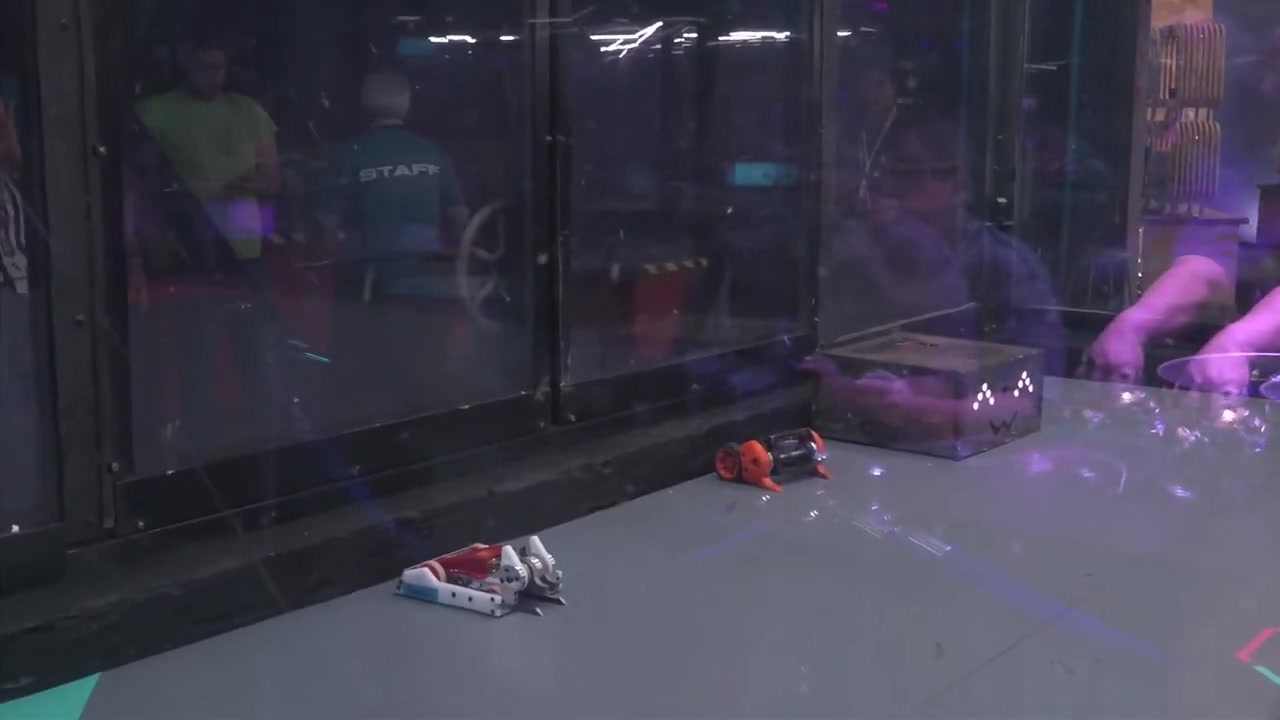combatbot: (393, 534, 567, 619), (713, 427, 834, 492)
housebot: (811, 330, 1044, 460)
